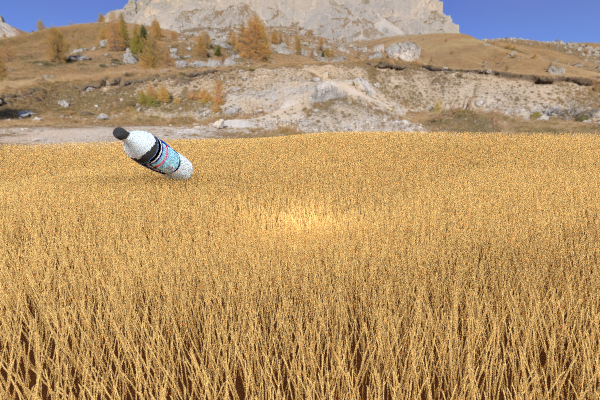bottle: (112, 127, 193, 181)
